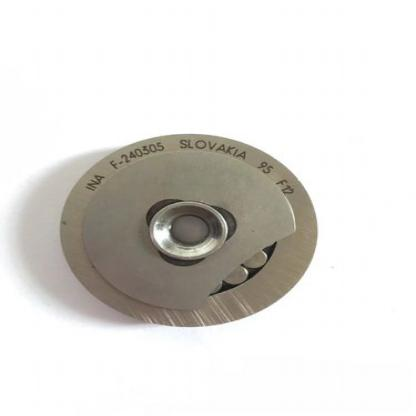FOD: (50, 128, 324, 333)
